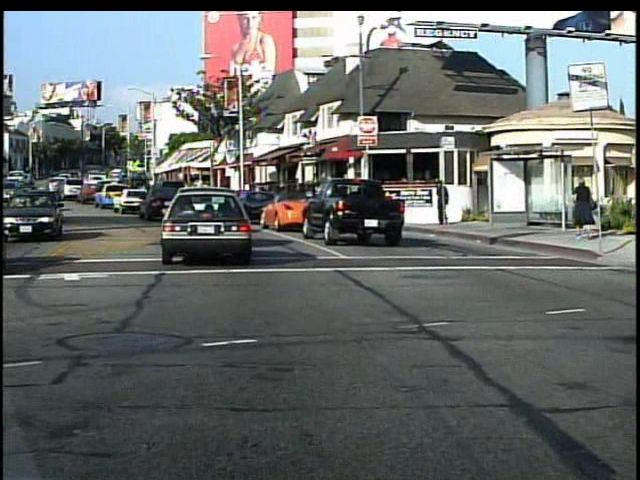person: (569, 172, 598, 244), (433, 182, 450, 233)
